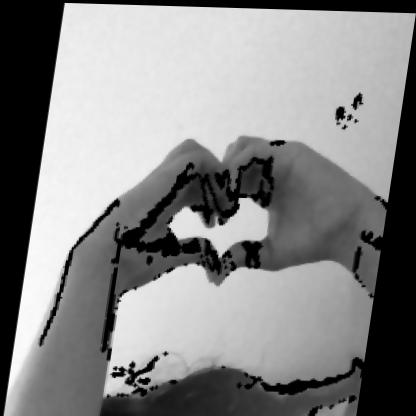heart: (66, 115, 393, 300)
